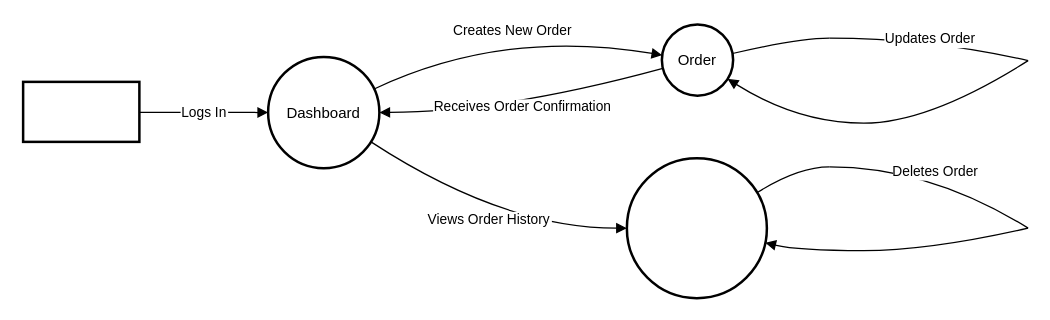
Some shapes in this 1050 by 320 pixel diagram are drawn without their labels. Each missing label, with the box of its shape:
Order History: (625, 156, 768, 299)
User: (21, 80, 140, 142)
